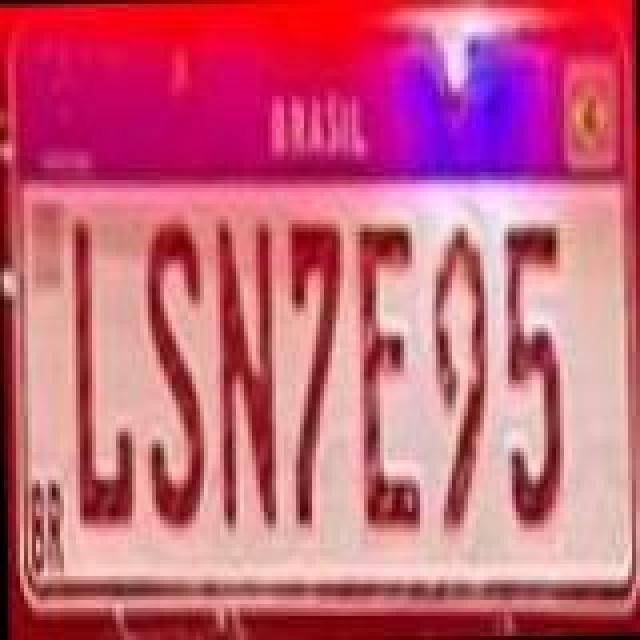5: (502, 224, 562, 528)
7: (284, 220, 344, 532)
9: (426, 216, 490, 532)
E: (354, 218, 418, 530)
L: (72, 220, 132, 524)
N: (214, 216, 278, 532)
S: (136, 216, 204, 532)
